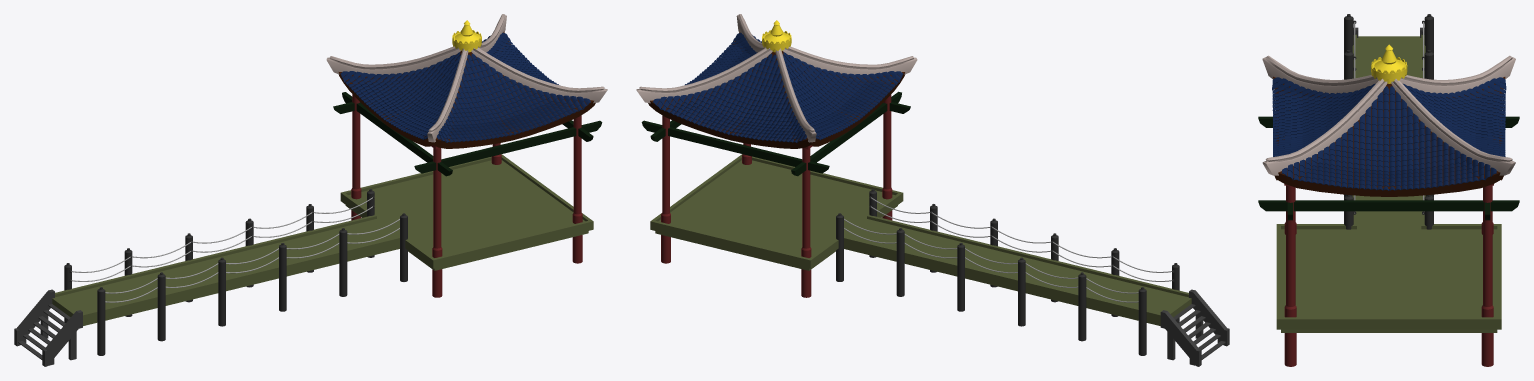
File: Chinese pavilion.FBX
The picture shows the model from 3 angles, left to right: view 1: azimuth 30°, elevation 25°; view 2: azimuth 150°, elevation 25°; view 3: azimuth 270°, elevation 25°; orthographic projection. The views are drawn at different scales.
Visible parts, largest first — view 1: platform, roof_tiles, roof_tiles001, roof, stairs, beam3, roof_det3, roof_det2, pillar1, pillar4, roof_tiles003, beam1 (+9 smaller); view 2: platform, roof_tiles002, roof_tiles001, roof, stairs, beam4, roof_det007, roof_det1, pillar2, pillar3, roof_tiles003, beam1 (+9 smaller); view 3: platform, roof_tiles003, roof_tiles002, roof_tiles, roof, beam2, roof_det3, roof_det007, pillar3, pillar4, roof_det2, roof_det1 (+8 smaller).
Part boxes in pixels (x1,y1,x2,y2): platform: (52, 154, 593, 325); roof_tiles: (437, 53, 590, 142); roof_tiles001: (340, 52, 461, 140); roof: (338, 32, 595, 148); stairs: (14, 289, 82, 366); beam3: (414, 120, 602, 173); roof_det3: (471, 47, 607, 103); roof_det2: (326, 46, 461, 74); pillar1: (431, 145, 442, 297); pillar4: (572, 115, 582, 263); roof_tiles003: (486, 32, 558, 84); beam1: (342, 92, 452, 176); platform: (650, 154, 1191, 325); roof_tiles002: (653, 53, 806, 142); roof_tiles001: (782, 52, 903, 140); roof: (648, 32, 905, 148); stairs: (1160, 289, 1229, 366); beam4: (641, 120, 829, 173); roof_det007: (636, 48, 772, 103); roof_det1: (782, 46, 917, 74); pillar2: (801, 145, 812, 297); pillar3: (661, 115, 670, 263); roof_tiles003: (685, 32, 757, 84); beam1: (791, 91, 901, 176); platform: (1276, 34, 1501, 332); roof_tiles003: (1281, 86, 1496, 190); roof_tiles002: (1403, 77, 1506, 156); roof_tiles: (1272, 77, 1375, 156); roof: (1273, 76, 1505, 196); beam2: (1258, 200, 1519, 211); roof_det3: (1262, 78, 1387, 175); roof_det007: (1391, 79, 1515, 175); pillar3: (1481, 184, 1493, 366); pillar4: (1284, 184, 1296, 366); roof_det2: (1400, 55, 1515, 93); roof_det1: (1262, 55, 1378, 93).
Bounding box in the file's own units: 16.56 × 5.8 × 6.82.
